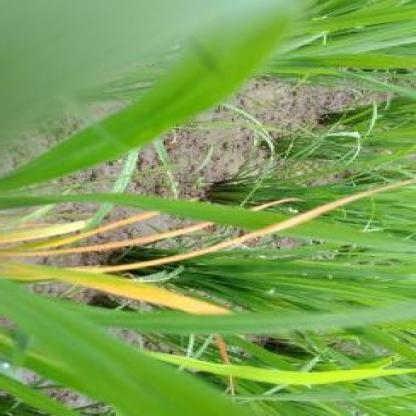Tungro: (1, 257, 228, 315)
